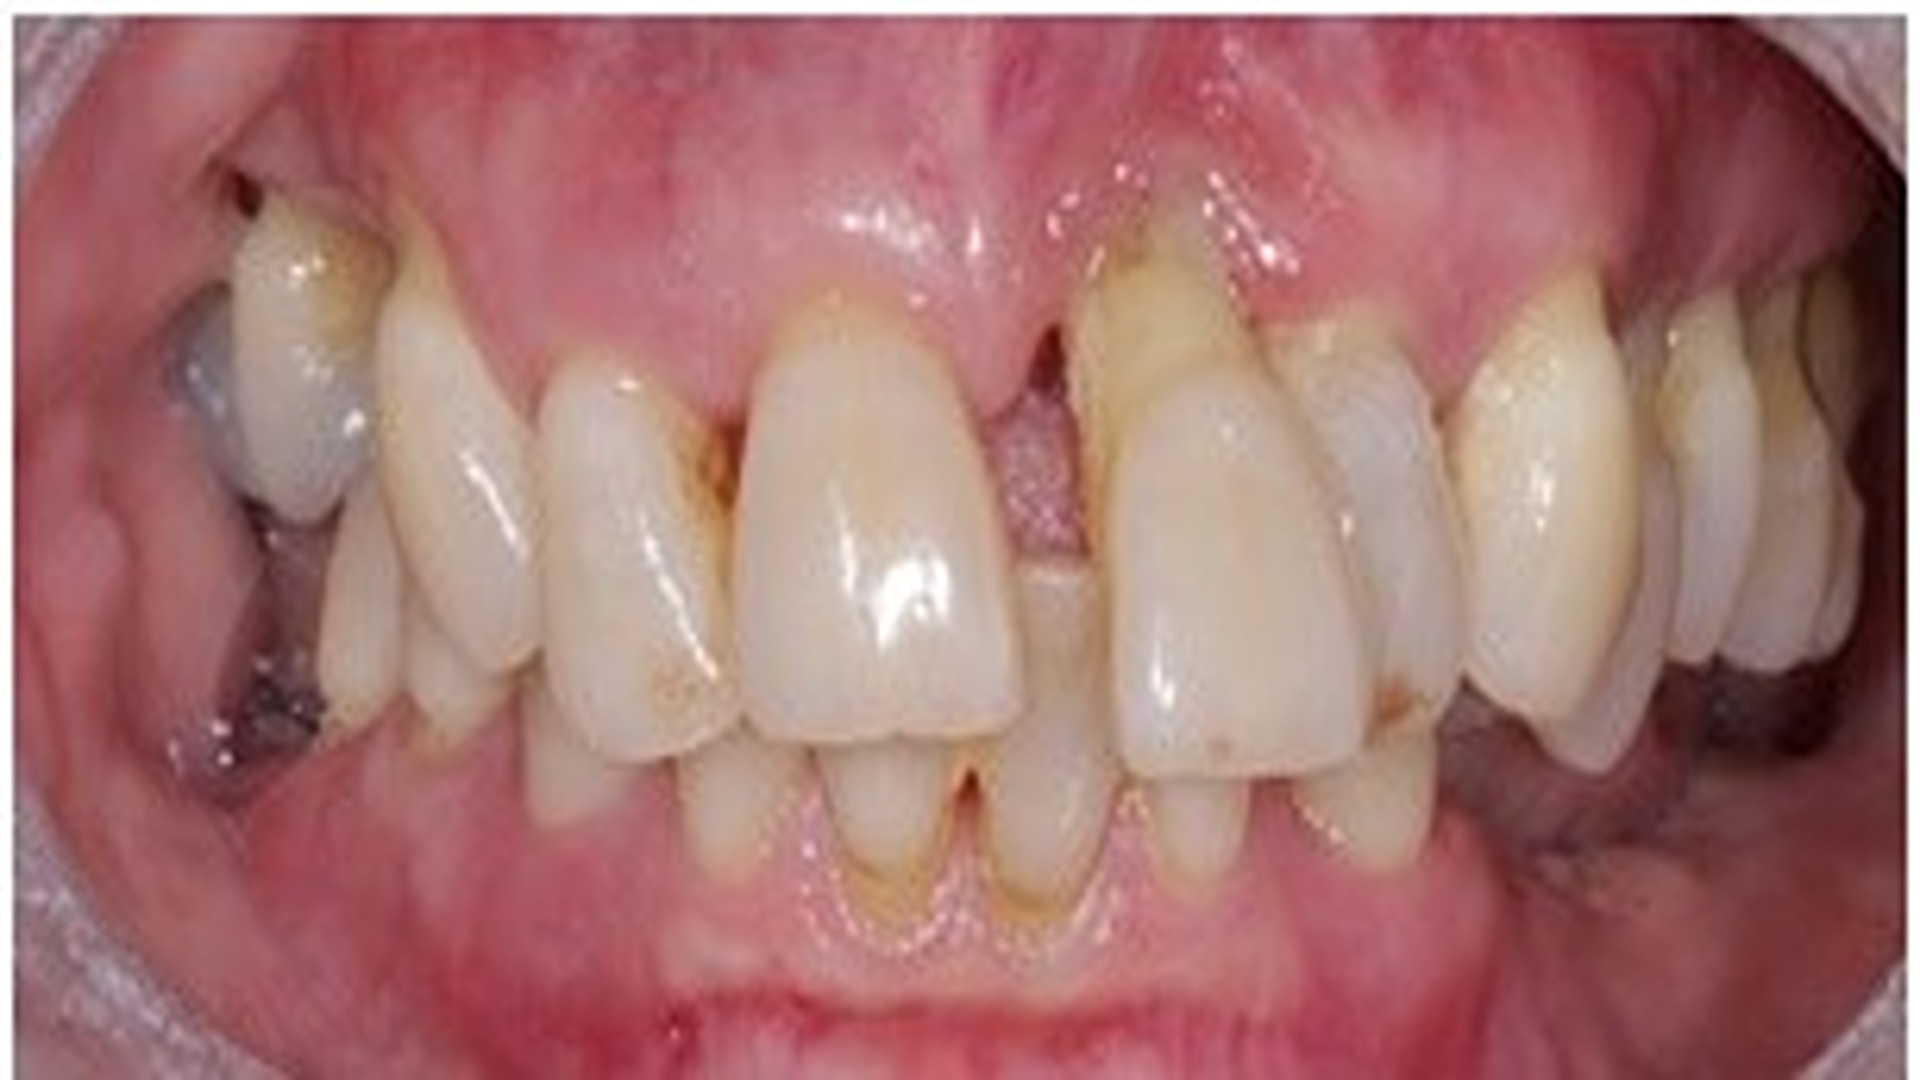tooth: (1061, 220, 1372, 779), (732, 329, 1024, 741), (1254, 306, 1468, 747), (1443, 262, 1639, 720), (538, 344, 745, 762), (376, 228, 542, 672), (1530, 318, 1680, 776), (231, 189, 396, 524), (977, 560, 1122, 926), (1720, 266, 1833, 674), (1655, 292, 1762, 662), (809, 738, 973, 932), (312, 466, 405, 753), (1293, 711, 1438, 874), (513, 653, 640, 830), (676, 718, 813, 881), (399, 546, 509, 734), (1143, 778, 1254, 900)
